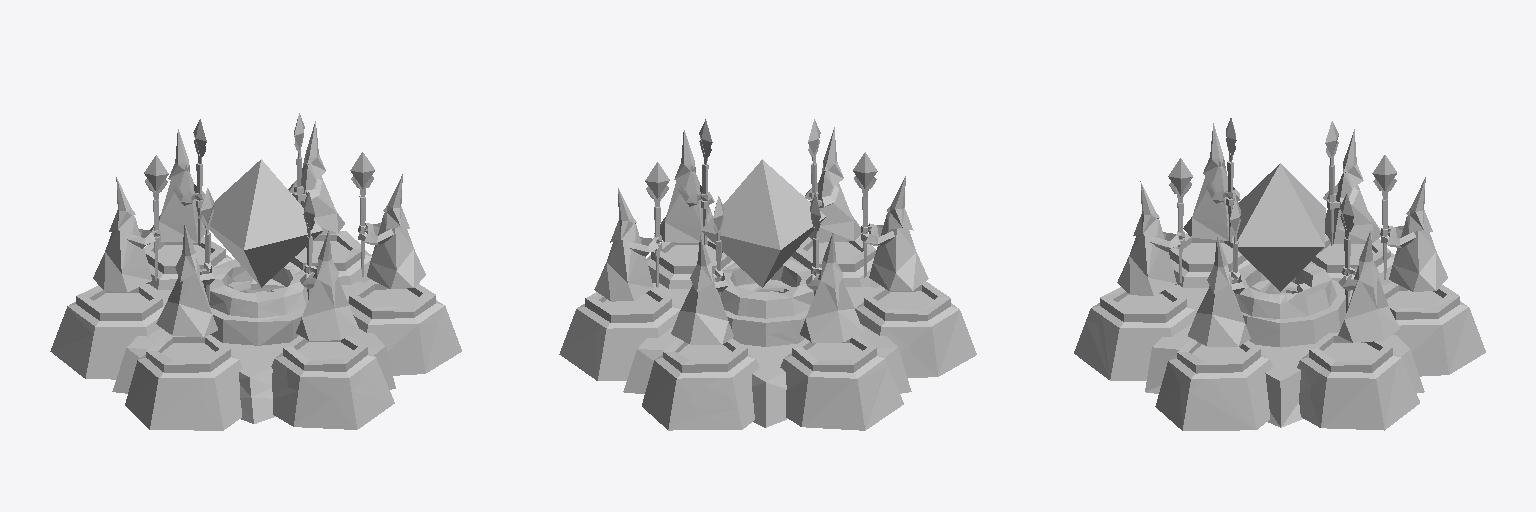
File: red_castle.obj
3 renders of one model, left to right at view 1: azimuth 30°, elevation 25°; view 2: azimuth 150°, elevation 25°; view 3: azimuth 270°, elevation 25°, orthographic.
Visible parts, largest first — view 1: Object062_未命名; view 2: Object062_未命名; view 3: Object062_未命名.
Part boxes in pixels (bbox=[...]): Object062_未命名: bbox=[50, 113, 461, 430]; Object062_未命名: bbox=[559, 119, 976, 430]; Object062_未命名: bbox=[1074, 118, 1485, 430].
Size of the model in its own units: 116 by 73.12 by 131.